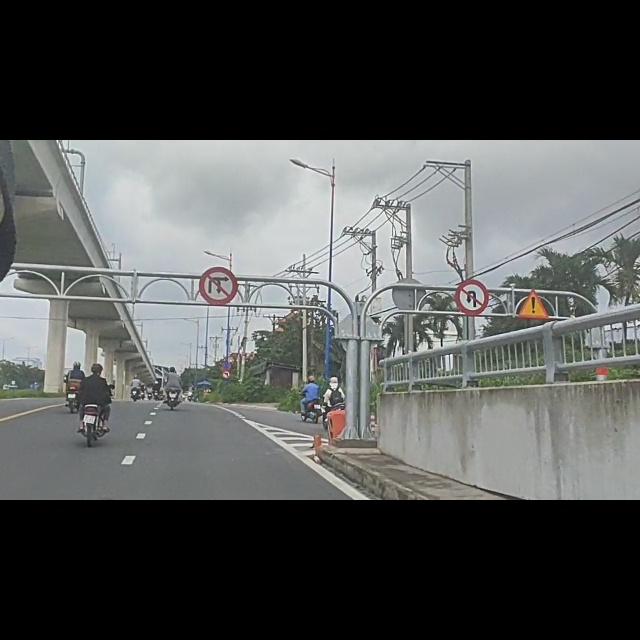bien_cam: (199, 225, 238, 295), (456, 248, 489, 312), (519, 263, 551, 319), (222, 392, 233, 409), (221, 410, 231, 424)
